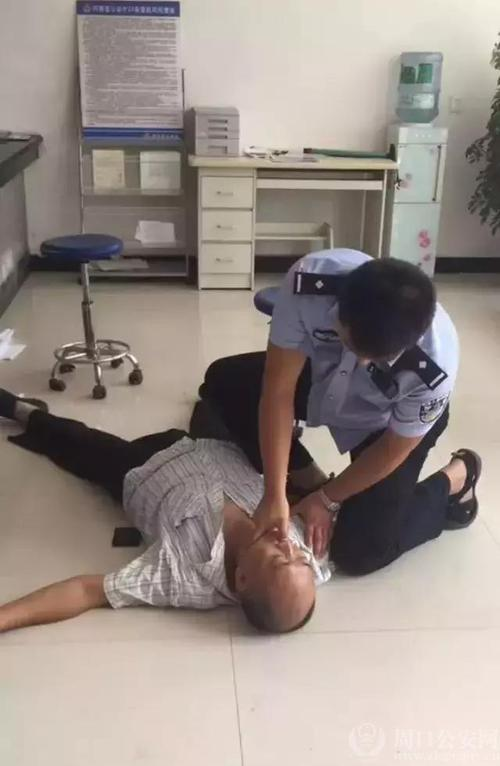Fall-Detected: (0, 359, 346, 650)
